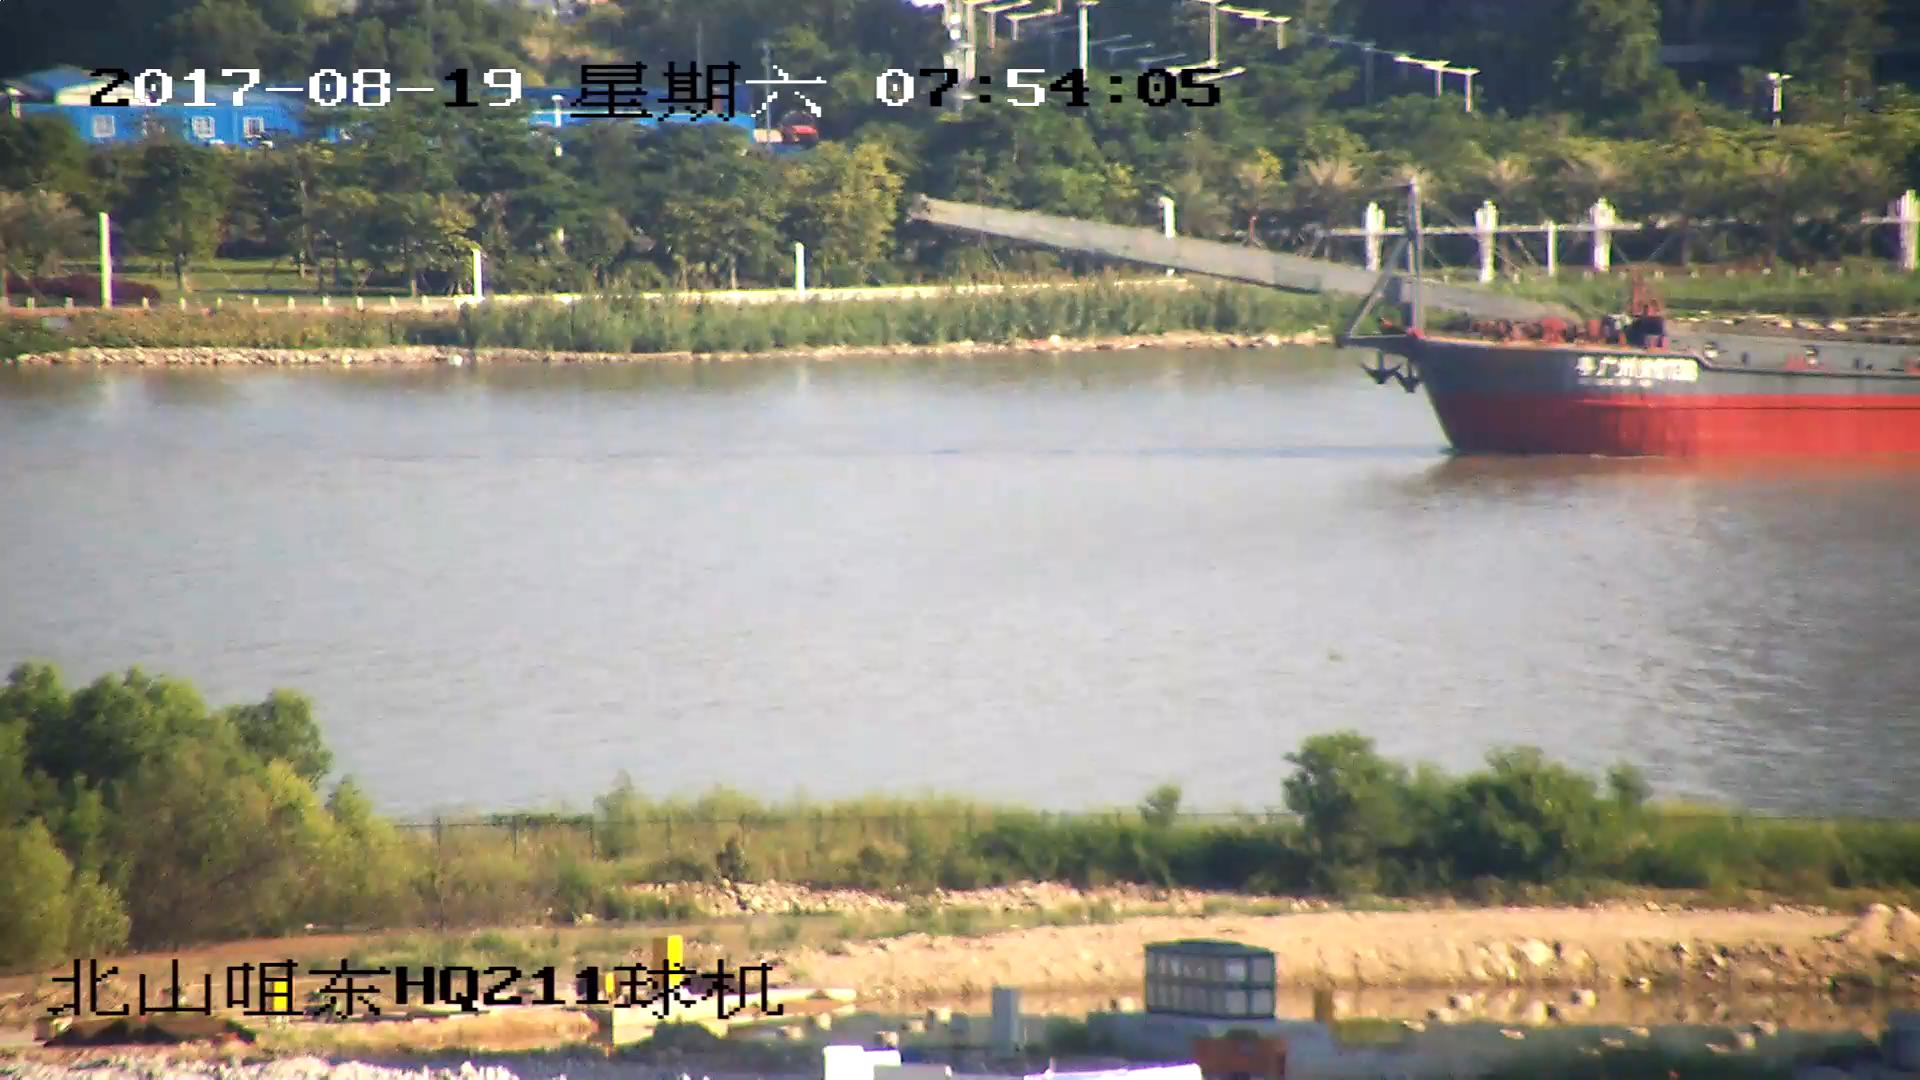bulk cargo carrier: (921, 202, 1920, 454)
